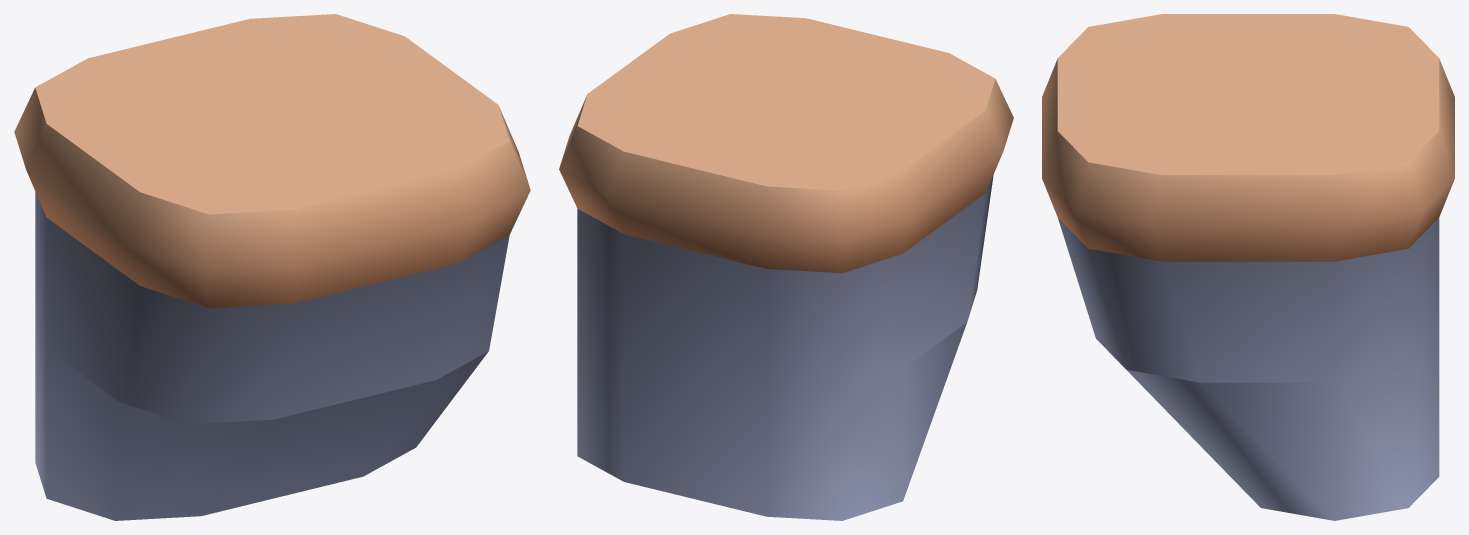
The model's file is block-grass-edge.glb.
3 views of the same model, side by side, from view 1: azimuth 30°, elevation 25°; view 2: azimuth 150°, elevation 25°; view 3: azimuth 270°, elevation 25° (orthographic). The views are drawn at different scales.
Parts seen in each view (by area): view 1: block-grass-edge; view 2: block-grass-edge; view 3: block-grass-edge.
Part boxes in pixels (bbox=[...]): block-grass-edge: bbox=[14, 14, 530, 520]; block-grass-edge: bbox=[559, 14, 1013, 520]; block-grass-edge: bbox=[1042, 14, 1454, 520].
Size of the model in its own units: 1.08 by 1 by 1.08.
